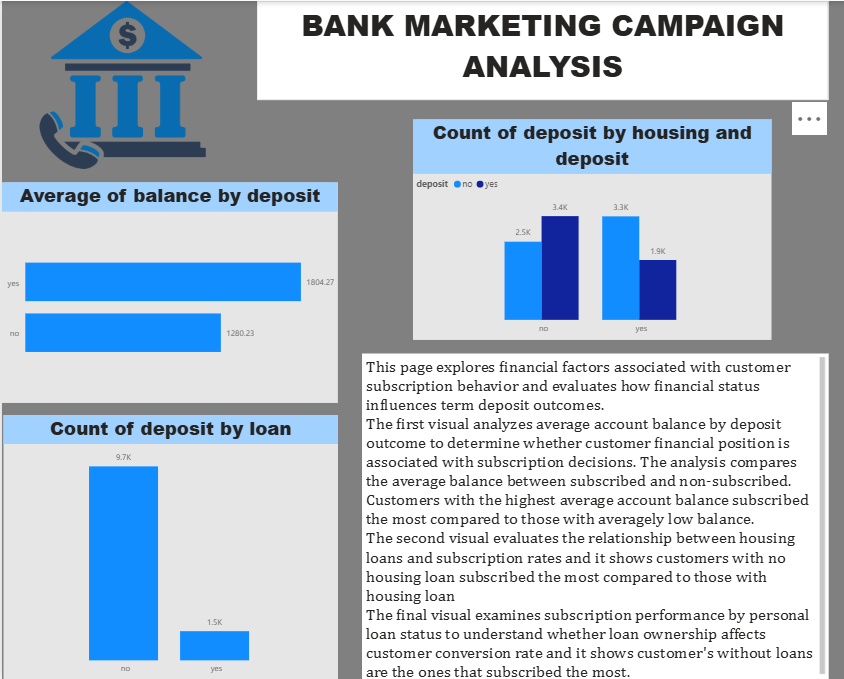

The page's visual inventory and layout, read from the dashboard file:
{"tool":"powerbi","page":{"name":"FINANCIAL INSIGHTS","canvas":[1250,1000],"ordinal":3},"visuals":[{"type":"textbox","box":[375.6,0,841.7,145.8],"z":0},{"type":"image","box":[0,0,355.7,247.4],"z":1000},{"type":"clusteredBarChart","fields":{"Category":["bank_marketing_cleaned.deposit"],"Y":["Avg(bank_marketing_cleaned.balance)"]},"box":[0,267.3,494.9,324.7],"z":2000},{"type":"clusteredColumnChart","fields":{"Category":["bank_marketing_cleaned.housing"],"Series":["bank_marketing_cleaned.deposit"],"Y":["CountNonNull(bank_marketing_cleaned.deposit)"]},"box":[605.3,174.5,528,324.7],"z":3000},{"type":"clusteredColumnChart","fields":{"Category":["bank_marketing_cleaned.loan"],"Y":["CountNonNull(bank_marketing_cleaned.deposit)"]},"box":[2.2,609.7,492.6,391],"z":4000},{"type":"textbox","box":[530.2,519.2,687.1,481.6],"z":4001}]}

Visuals, with their boxes in screenshot pixels (x1, y1, x2, y2), scaled from the page's 1250x1000 canvas onto the 844x679 screenshot:
textbox: 254,0,822,99
image: 0,0,240,168
clusteredBarChart - bank_marketing_cleaned.deposit x Avg(bank_marketing_cleaned.balance): 0,181,334,402
clusteredColumnChart - bank_marketing_cleaned.housing x bank_marketing_cleaned.deposit: 409,118,765,339
clusteredColumnChart - bank_marketing_cleaned.loan x CountNonNull(bank_marketing_cleaned.deposit): 1,414,334,678
textbox: 358,353,822,678
